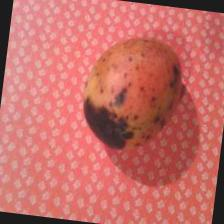Mango Overripe: (78, 28, 188, 160)
